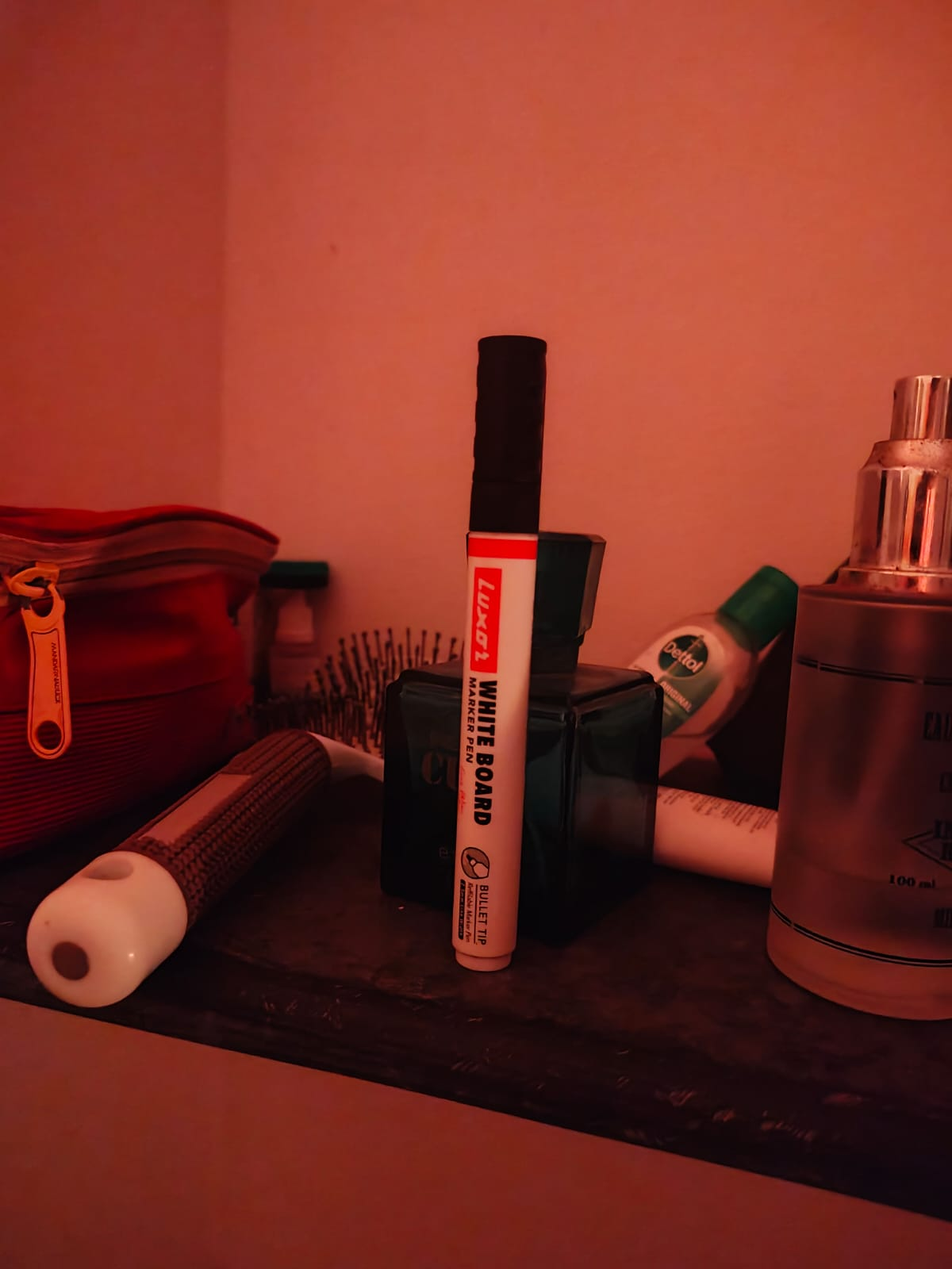case: (440, 316, 573, 982)
